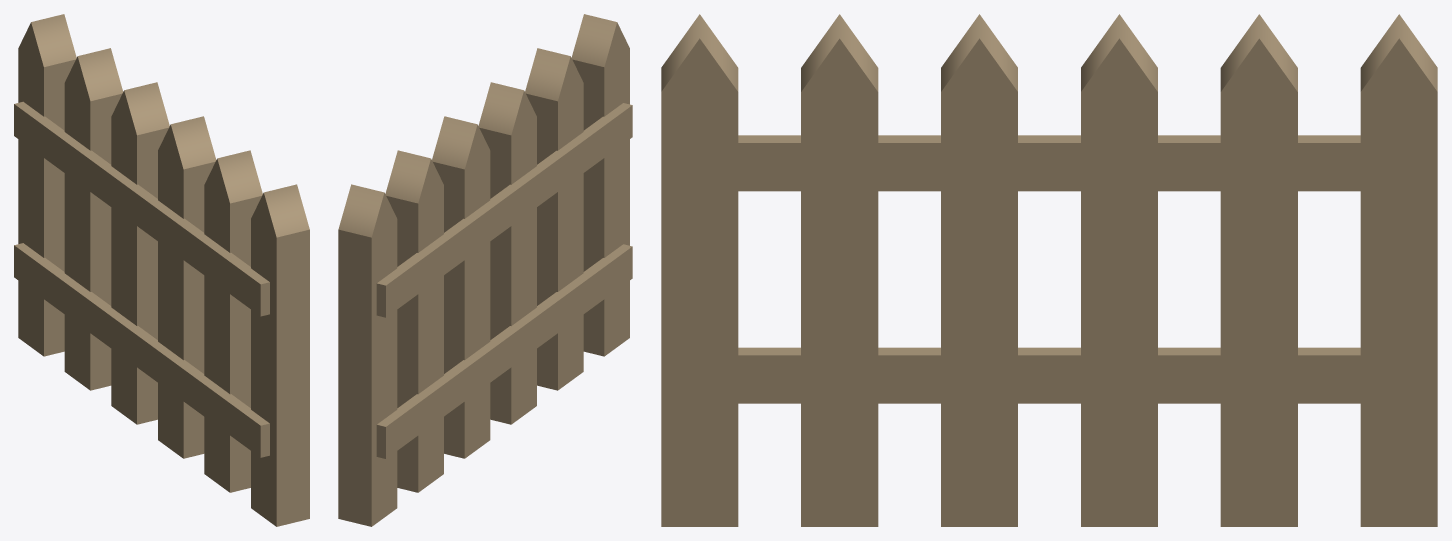
The model's file is fence.fbx.
3 renders of one model, left to right at view 1: azimuth 30°, elevation 25°; view 2: azimuth 150°, elevation 25°; view 3: azimuth 270°, elevation 25°, orthographic. The views are drawn at different scales.
Visible parts, largest first — view 1: pCube24; view 2: pCube24; view 3: pCube24.
Boxes of the visible parts, x1,y1,x2,y2 form: pCube24: [14, 14, 309, 526]; pCube24: [338, 14, 632, 526]; pCube24: [661, 14, 1437, 526].
Bounding box in the file's own units: 0.2632 × 1.93 × 2.78.
